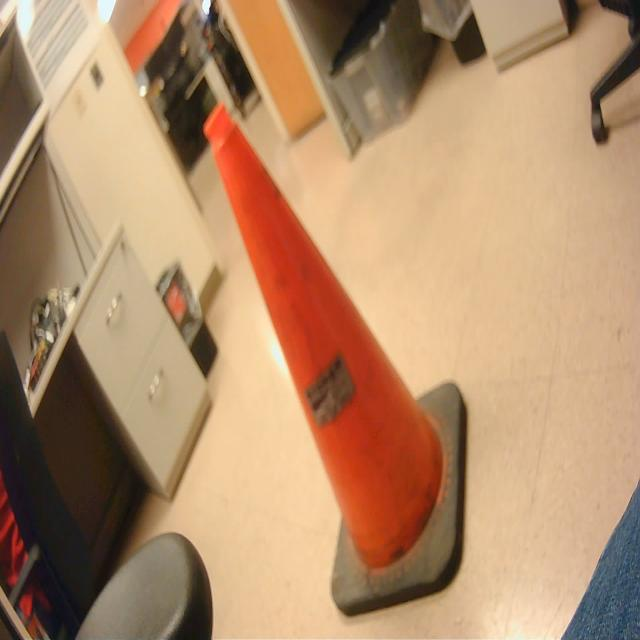traffic cone: (198, 95, 474, 624)
